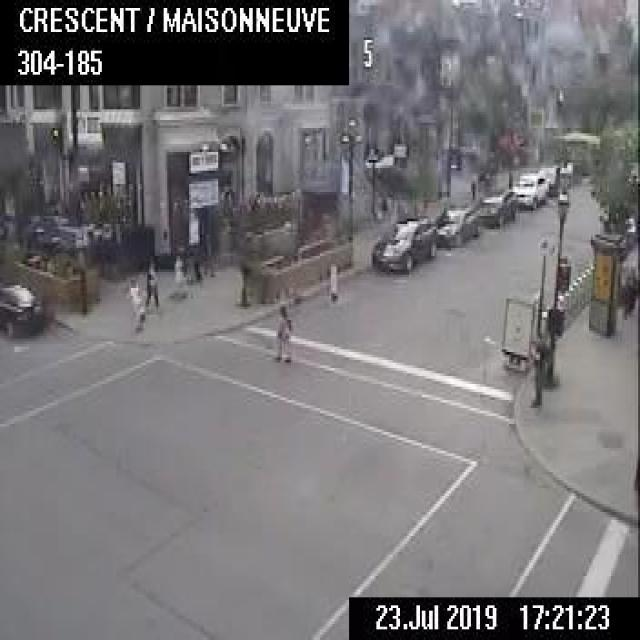pedestrian: (528, 330, 546, 410), (271, 301, 289, 363), (127, 278, 145, 334), (144, 257, 158, 305), (171, 250, 184, 298), (627, 266, 637, 308), (620, 276, 630, 317), (192, 261, 202, 293), (184, 262, 192, 296), (468, 175, 477, 195)
vehicle: (370, 211, 437, 269), (0, 277, 44, 336), (434, 203, 478, 243), (476, 185, 518, 226), (511, 170, 550, 208), (536, 163, 568, 192), (560, 158, 581, 184)
